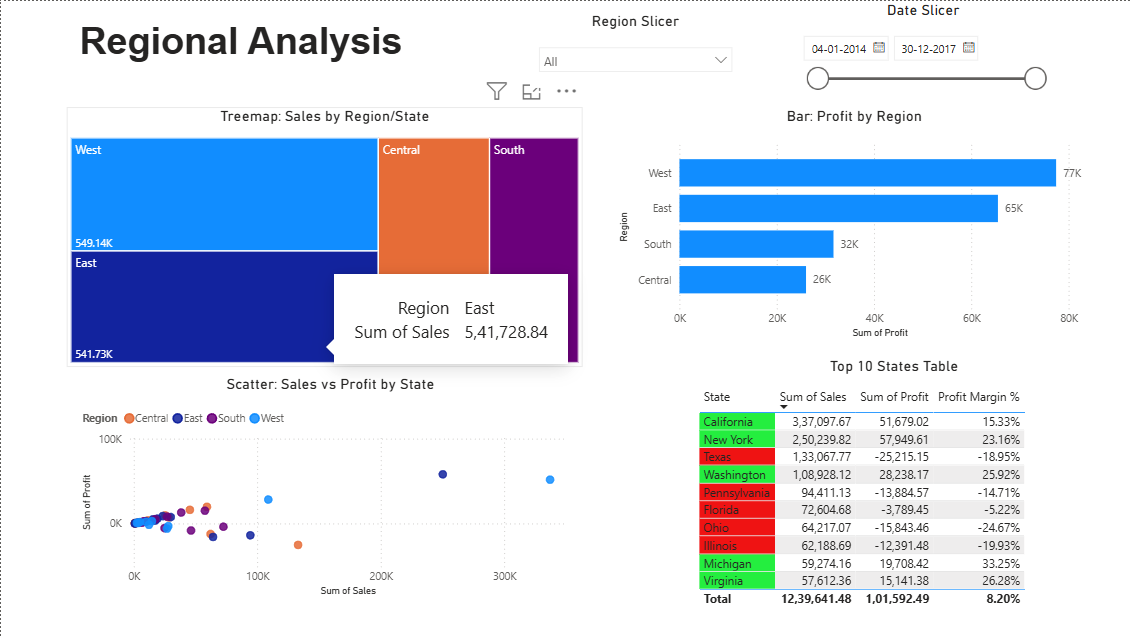

This screenshot's page, from the dashboard's own definition file:
{"tool":"powerbi","page":{"name":"Regional Analysis","canvas":[1280,720],"ordinal":1},"visuals":[{"type":"textbox","box":[32.9,15.7,477.1,65.7],"z":0},{"type":"treemap","title":"Treemap: Sales by Region/State","fields":{"Values":["Sum(Orders.Sales)"],"Group":["Orders.Region"]},"box":[74.3,120,584.3,294.3],"z":1000},{"type":"clusteredBarChart","title":"Bar: Profit by Region","fields":{"Y":["Sum(Orders.Profit)"],"Category":["Orders.Region"]},"box":[694.3,120,542.9,267.1],"z":2000},{"type":"scatterChart","title":"Scatter: Sales vs Profit by State ","fields":{"Category":["Orders.State"],"X":["Sum(Orders.Sales)"],"Y":["Sum(Orders.Profit)"],"Series":["Orders.Region"]},"box":[87.1,422.9,571.4,255.7],"z":3000},{"type":"tableEx","title":"Top 10 States Table ","fields":{"Values":["Orders.State","Sum(Orders.Sales)","Sum(Orders.Profit)","_Measures.Profit Margin %"]},"box":[784.3,402.9,452.9,297.1],"z":4000},{"type":"slicer","title":"Date Slicer","fields":{"Values":["DateTable.Date"]},"box":[895.7,0,295.7,110],"z":5000},{"type":"slicer","title":"Region Slicer","fields":{"Values":["Orders.Region"]},"box":[598.6,12.9,238.6,85.7],"z":6000}]}

Visuals, with their boxes in screenshot pixels (x1, y1, x2, y2), scaled from the page's 1280x720 canvas onto the 1132x637 screenshot:
textbox: {"left": 29, "top": 14, "right": 451, "bottom": 72}
"Treemap: Sales by Region/State" treemap: {"left": 66, "top": 106, "right": 582, "bottom": 367}
"Bar: Profit by Region" clusteredBarChart: {"left": 614, "top": 106, "right": 1094, "bottom": 342}
"Scatter: Sales vs Profit by State " scatterChart: {"left": 77, "top": 374, "right": 582, "bottom": 600}
"Top 10 States Table " tableEx: {"left": 694, "top": 356, "right": 1094, "bottom": 619}
"Date Slicer" slicer: {"left": 792, "top": 0, "right": 1054, "bottom": 97}
"Region Slicer" slicer: {"left": 529, "top": 11, "right": 740, "bottom": 87}
